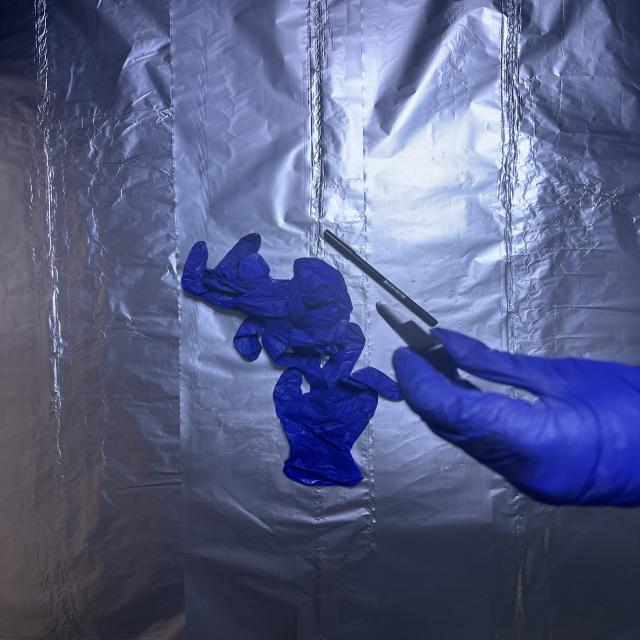gloves_contaminated: (393, 328, 640, 507)
